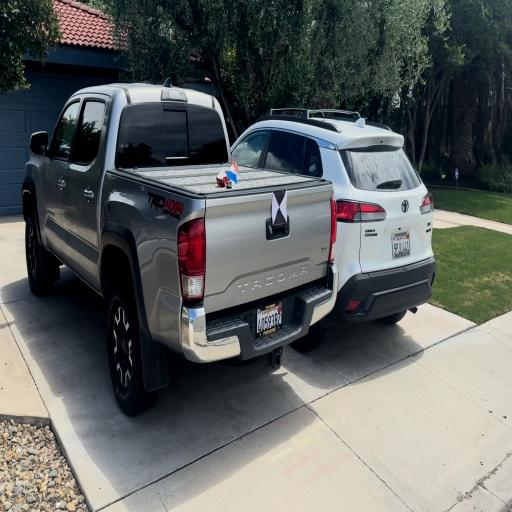target: (272, 192, 288, 226)
